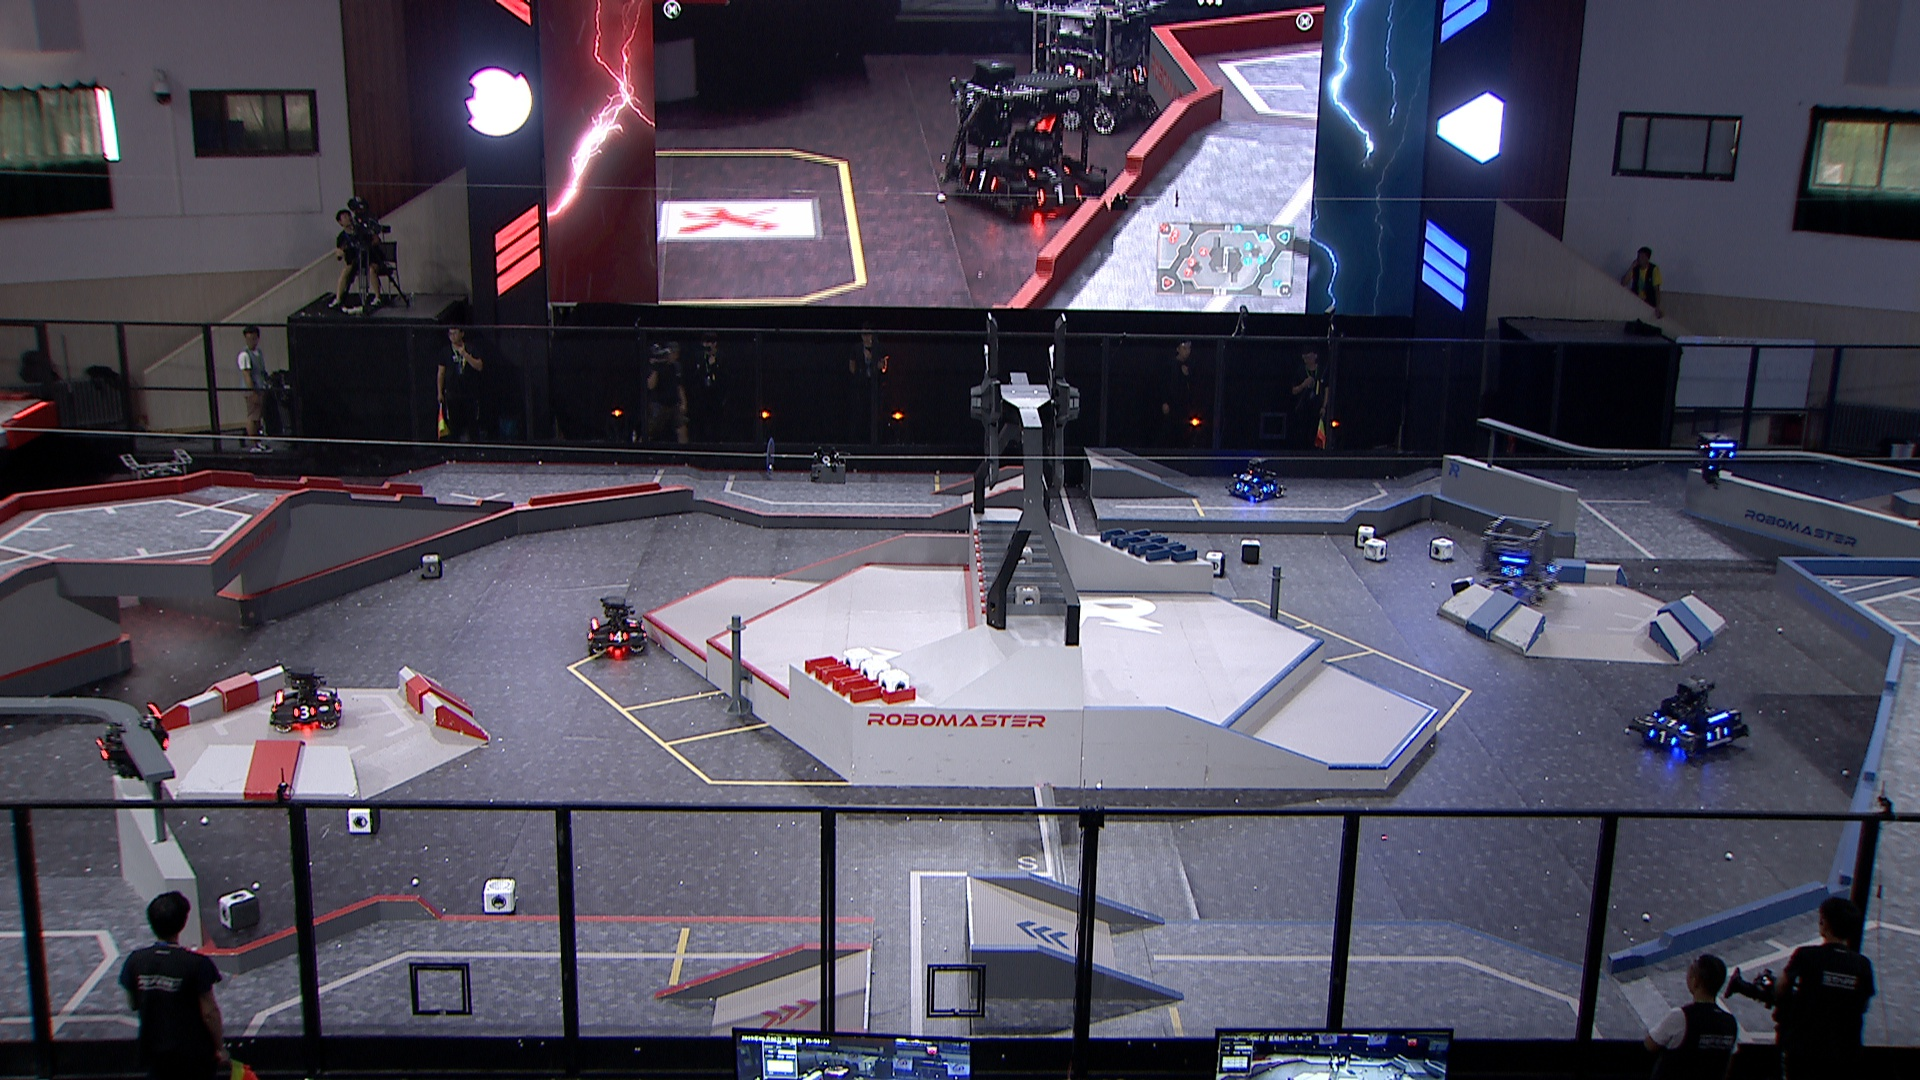armor: (1646, 728, 1680, 750), (1656, 716, 1691, 732), (1706, 725, 1731, 744), (291, 705, 318, 723), (1705, 448, 1738, 462), (1501, 564, 1524, 580), (313, 687, 332, 703), (609, 629, 629, 644), (1233, 483, 1254, 495), (1261, 480, 1276, 495), (1238, 473, 1261, 483), (626, 617, 640, 628)
car: (1626, 673, 1750, 764), (105, 444, 204, 541), (1472, 514, 1561, 605), (266, 666, 344, 733), (584, 593, 651, 657), (1222, 458, 1288, 505)
ignore: (939, 61, 1109, 220)
watcher: (95, 705, 173, 785), (1695, 429, 1745, 489)
